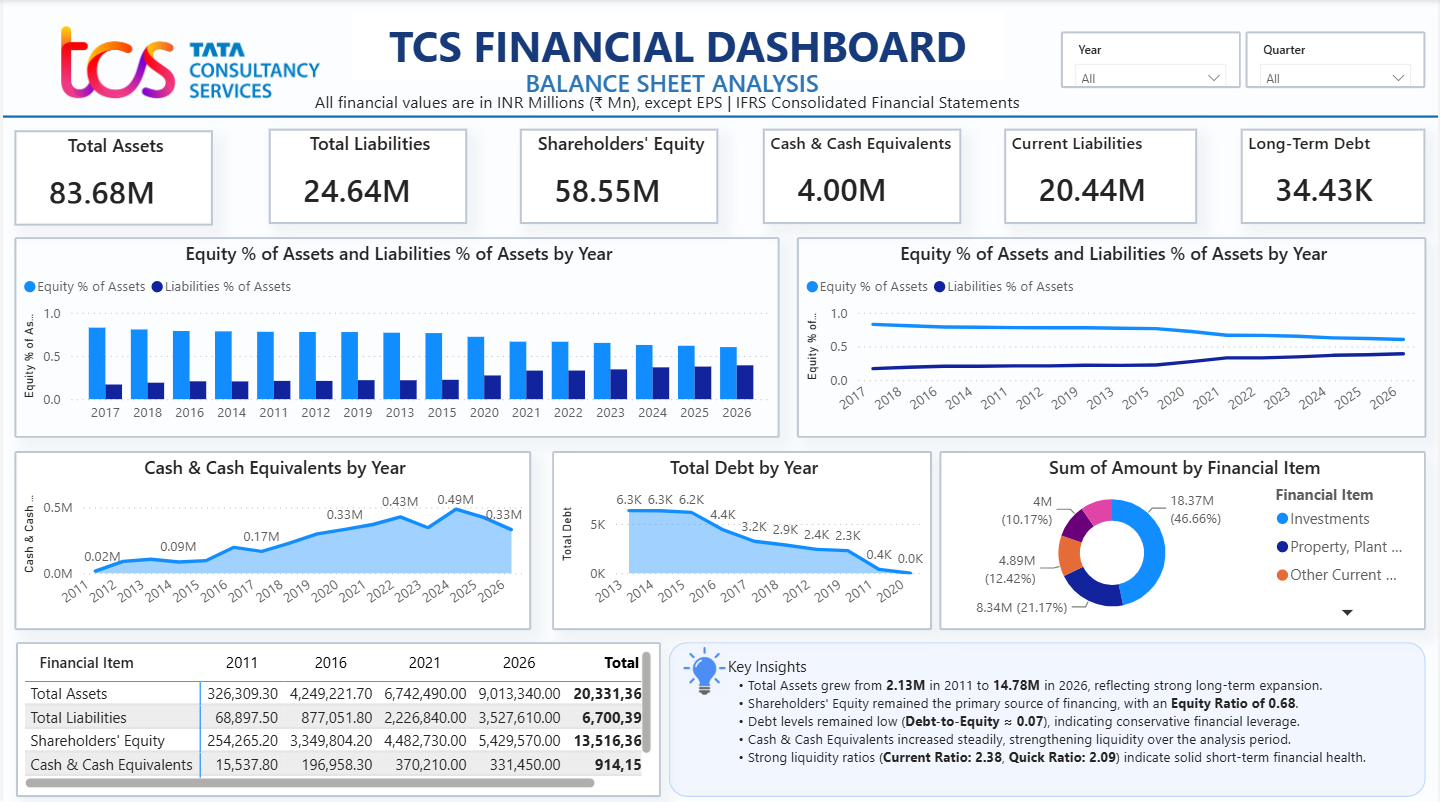

This screenshot's page, from the dashboard's own definition file:
{"tool":"powerbi","page":{"name":"Balance Sheet Analysis","canvas":[1280,720],"ordinal":2},"visuals":[{"type":"cardVisual","title":"Total Assets","fields":{"Data":["IFRS-PnL,BS-INR.Total Assets"]},"box":[10.2,117.5,177,85],"z":0},{"type":"cardVisual","title":"Total Liabilities","fields":{"Data":["IFRS-PnL,BS-INR.Total Liabilities"]},"box":[236.6,115.8,177,85],"z":1000},{"type":"cardVisual","title":"Shareholders'' Equity","fields":{"Data":["IFRS-PnL,BS-INR.Shareholders' Equity"]},"box":[461.3,115.8,177,85],"z":2000},{"type":"cardVisual","title":"Cash & Cash Equivalents","fields":{"Data":["IFRS-PnL,BS-INR.Cash & Cash Equivalents"]},"box":[677.5,115.8,177,85],"z":3000},{"type":"cardVisual","title":"Current Liabilities","fields":{"Data":["IFRS-PnL,BS-INR.Current Liabilities"]},"box":[893.7,115.8,172,85],"z":4000},{"type":"textbox","box":[310.8,11.4,582.3,60.5],"z":5000},{"type":"shape","box":[0,85,1280.6,39.3],"z":6000},{"type":"image","box":[27.8,0,279.7,112.9],"z":7000},{"type":"textbox","box":[461.3,54.5,432.4,42.6],"z":8000},{"type":"shape","box":[594,574.3,675.1,138.1],"z":9000},{"type":"image","box":[602.6,578.8,46,42.6],"z":10000},{"type":"cardVisual","title":"Long-Term Debt","fields":{"Data":["IFRS-PnL,BS-INR.Long-Term Debt"]},"box":[1104.7,115.8,165.1,85],"z":11000},{"type":"textbox","box":[273,77.2,655.1,39.5],"z":12000},{"type":"clusteredColumnChart","fields":{"Y":["IFRS-PnL,BS-INR.Equity % of Assets","IFRS-PnL,BS-INR.Liabilities % of Assets"],"Category":["Calendar.Year"]},"box":[10.2,212.8,682.6,178.7],"z":13000},{"type":"lineChart","fields":{"Category":["Calendar.Year"],"Y":["IFRS-PnL,BS-INR.Equity % of Assets","IFRS-PnL,BS-INR.Liabilities % of Assets"]},"box":[708.1,212.8,561.7,178.7],"z":14000},{"type":"areaChart","fields":{"Category":["Calendar.Year"],"Y":["IFRS-PnL,BS-INR.Cash & Cash Equivalents"]},"box":[10.2,403.4,461.3,160],"z":15000},{"type":"areaChart","fields":{"Category":["Calendar.Year"],"Y":["IFRS-PnL,BS-INR.Total Debt"]},"box":[490.2,403.4,338.7,160],"z":16000},{"type":"donutChart","fields":{"Category":["IFRS-PnL,BS-INR.Financial Item"],"Y":["Sum(IFRS-PnL,BS-INR.Amount)"]},"box":[835.1,403.3,434,160],"z":17000},{"type":"slicer","fields":{"Values":["IFRS-PnL,BS-INR.Quarter"]},"box":[1108.9,29.4,160.3,50.7],"z":18000},{"type":"slicer","fields":{"Values":["IFRS-PnL,BS-INR.Year "]},"box":[943.7,29.4,160.3,50.7],"z":19000},{"type":"pivotTable","title":"Financial Item","fields":{"Columns":["IFRS-PnL,BS-INR.Year "],"Values":["IFRS-PnL,BS-INR.Total Assets","IFRS-PnL,BS-INR.Total Liabilities","IFRS-PnL,BS-INR.Shareholders' Equity","IFRS-PnL,BS-INR.Cash & Cash Equivalents","IFRS-PnL,BS-INR.Total Debt"]},"box":[11,574.3,575,138.1],"z":20000},{"type":"textbox","box":[27.2,578.8,102.1,35.7],"z":21000},{"type":"textbox","box":[641.7,580.5,638.3,126],"z":22000}]}

Visuals, with their boxes in screenshot pixels (x1, y1, x2, y2), scaled from the page's 1280x720 canvas onto the 1440x802 screenshot:
"Total Assets" cardVisual: locate(11, 131, 211, 226)
"Total Liabilities" cardVisual: locate(266, 129, 465, 224)
"Shareholders'' Equity" cardVisual: locate(519, 129, 718, 224)
"Cash & Cash Equivalents" cardVisual: locate(762, 129, 961, 224)
"Current Liabilities" cardVisual: locate(1005, 129, 1199, 224)
textbox: locate(350, 13, 1005, 80)
shape: locate(0, 95, 1439, 138)
image: locate(31, 0, 346, 126)
textbox: locate(519, 61, 1005, 108)
shape: locate(668, 640, 1428, 794)
image: locate(678, 645, 730, 692)
"Long-Term Debt" cardVisual: locate(1243, 129, 1429, 224)
textbox: locate(307, 86, 1044, 130)
clusteredColumnChart - IFRS-PnL,BS-INR.Equity % of Assets x IFRS-PnL,BS-INR.Liabilities % of Assets: locate(11, 237, 779, 436)
lineChart - Calendar.Year x IFRS-PnL,BS-INR.Equity % of Assets: locate(797, 237, 1429, 436)
areaChart - Calendar.Year x IFRS-PnL,BS-INR.Cash & Cash Equivalents: locate(11, 449, 530, 628)
areaChart - Calendar.Year x IFRS-PnL,BS-INR.Total Debt: locate(551, 449, 933, 628)
donutChart - IFRS-PnL,BS-INR.Financial Item x Sum(IFRS-PnL,BS-INR.Amount): locate(939, 449, 1428, 627)
slicer - IFRS-PnL,BS-INR.Quarter: locate(1248, 33, 1428, 89)
slicer - IFRS-PnL,BS-INR.Year : locate(1062, 33, 1242, 89)
"Financial Item" pivotTable: locate(12, 640, 659, 794)
textbox: locate(31, 645, 145, 684)
textbox: locate(722, 647, 1439, 787)
